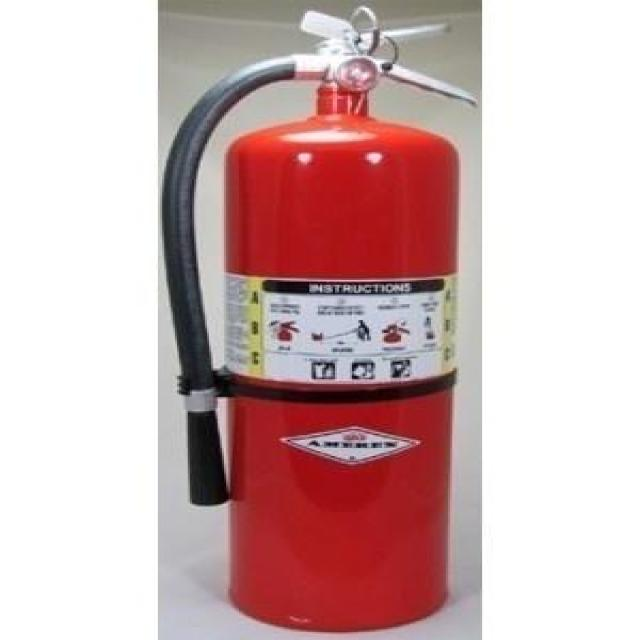fire_extinguisher: (154, 3, 480, 634)
